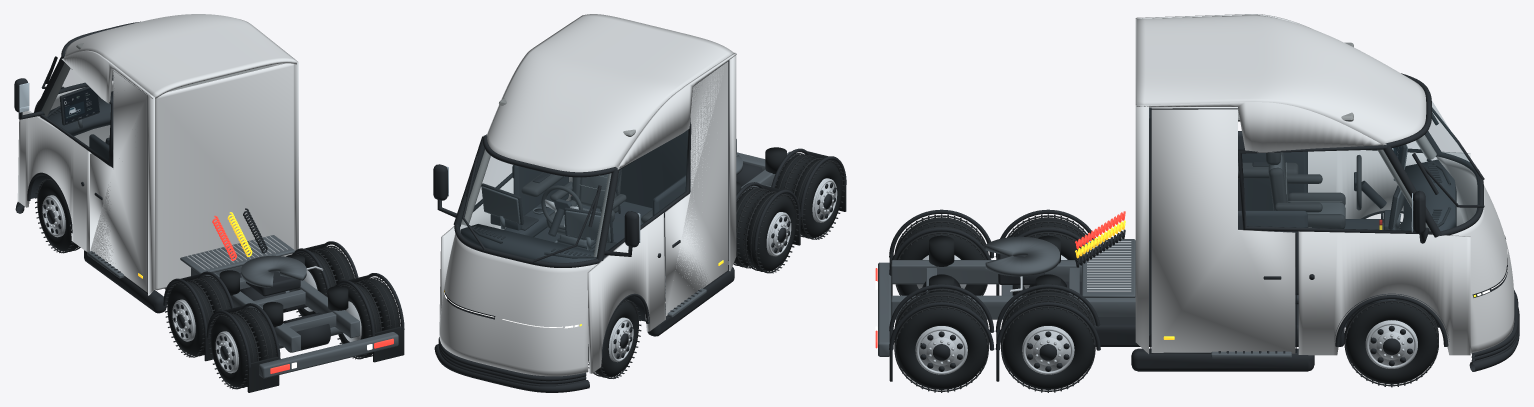
File: semi_detailed.glb
3 renders of one model, left to right at view 1: azimuth 30°, elevation 25°; view 2: azimuth 150°, elevation 25°; view 3: azimuth 270°, elevation 25°, orthographic. The views are drawn at different scales.
Visible parts, largest first — view 1: Chassis__Semi_Pearl_White, DoorPivot_L__Semi_Pearl_White, Chassis__Semi_Exterior_Graphite, Chassis__Semi_Chassis_Steel, Chassis__Semi_Tire_Rubber, Chassis__Semi_Laminated_Glass, WheelSpin_RL__Semi_Tire_Rubber, WheelSpin_ML__Semi_Tire_Rubber, WheelSpin_RR__Semi_Tire_Rubber, FifthWheelPivot__Semi_Chassis_Steel, WheelSpin_MR__Semi_Tire_Rubber, Chassis__Semi_Interior_Charcoal (+15 smaller); view 2: Chassis__Semi_Pearl_White, Chassis__Semi_Laminated_Glass, Chassis__Semi_Exterior_Graphite, DoorPivot_L__Semi_Pearl_White, Chassis__Semi_Interior_Charcoal, WheelSpin_ML__Semi_Tire_Rubber, WheelSpin_RL__Semi_Tire_Rubber, DoorPivot_L__Semi_Laminated_Glass, WheelSpin_FL__Semi_Tire_Rubber, WheelSpin_ML__Semi_Tread_Rubber, Chassis__Semi_Headliner, DoorPivot_R__Semi_Interior_Charcoal (+13 smaller); view 3: Chassis__Semi_Pearl_White, DoorPivot_R__Semi_Pearl_White, Chassis__Semi_Exterior_Graphite, Chassis__Semi_Laminated_Glass, Chassis__Semi_Chassis_Steel, WheelSpin_MR__Semi_Tire_Rubber, WheelSpin_RR__Semi_Tire_Rubber, WheelSpin_FR__Semi_Tire_Rubber, DoorPivot_R__Semi_Laminated_Glass, Chassis__Semi_Interior_Charcoal, DriverSeat__Semi_Seat_Bolster, FifthWheelPivot__Semi_Chassis_Steel (+21 smaller).
Boxes of the visible parts, x1,y1,x2,y2 form: Chassis__Semi_Pearl_White: (17,14,298,295); DoorPivot_L__Semi_Pearl_White: (90,70,147,292); Chassis__Semi_Exterior_Graphite: (14,21,404,367); Chassis__Semi_Chassis_Steel: (87,235,398,378); Chassis__Semi_Tire_Rubber: (108,142,404,392); Chassis__Semi_Laminated_Glass: (41,63,93,147); WheelSpin_RL__Semi_Tire_Rubber: (210,308,276,387); WheelSpin_ML__Semi_Tire_Rubber: (167,277,230,355); WheelSpin_RR__Semi_Tire_Rubber: (338,279,399,357); FifthWheelPivot__Semi_Chassis_Steel: (241,255,306,287); WheelSpin_MR__Semi_Tire_Rubber: (298,247,353,316); Chassis__Semi_Interior_Charcoal: (30,91,113,198); Chassis__Semi_Pearl_White: (439,14,736,376); Chassis__Semi_Laminated_Glass: (458,146,663,262); Chassis__Semi_Exterior_Graphite: (433,60,846,392); DoorPivot_L__Semi_Pearl_White: (664,61,727,315); Chassis__Semi_Interior_Charcoal: (460,118,690,321); WheelSpin_ML__Semi_Tire_Rubber: (734,188,796,271); WheelSpin_RL__Semi_Tire_Rubber: (775,154,842,238); DoorPivot_L__Semi_Laminated_Glass: (662,130,687,206); WheelSpin_FL__Semi_Tire_Rubber: (595,301,638,377); WheelSpin_ML__Semi_Tread_Rubber: (733,186,799,273); Chassis__Semi_Headliner: (461,98,635,256); DoorPivot_R__Semi_Interior_Charcoal: (512,165,568,215); Chassis__Semi_Pearl_White: (1135,14,1514,355); DoorPivot_R__Semi_Pearl_White: (1151,107,1295,353); Chassis__Semi_Exterior_Graphite: (889,73,1519,371); Chassis__Semi_Laminated_Glass: (1296,101,1478,230); Chassis__Semi_Chassis_Steel: (878,230,1400,358); WheelSpin_MR__Semi_Tire_Rubber: (1002,291,1094,389); WheelSpin_RR__Semi_Tire_Rubber: (895,291,987,389); WheelSpin_FR__Semi_Tire_Rubber: (1345,299,1437,384); DoorPivot_R__Semi_Laminated_Glass: (1242,152,1294,226); Chassis__Semi_Interior_Charcoal: (1149,107,1456,341); DriverSeat__Semi_Seat_Bolster: (1266,152,1345,228); FifthWheelPivot__Semi_Chassis_Steel: (985,236,1059,276).
Bounding box in the file's own units: 3.27 × 3.84 × 7.67.
20 materials, 2 textured.
